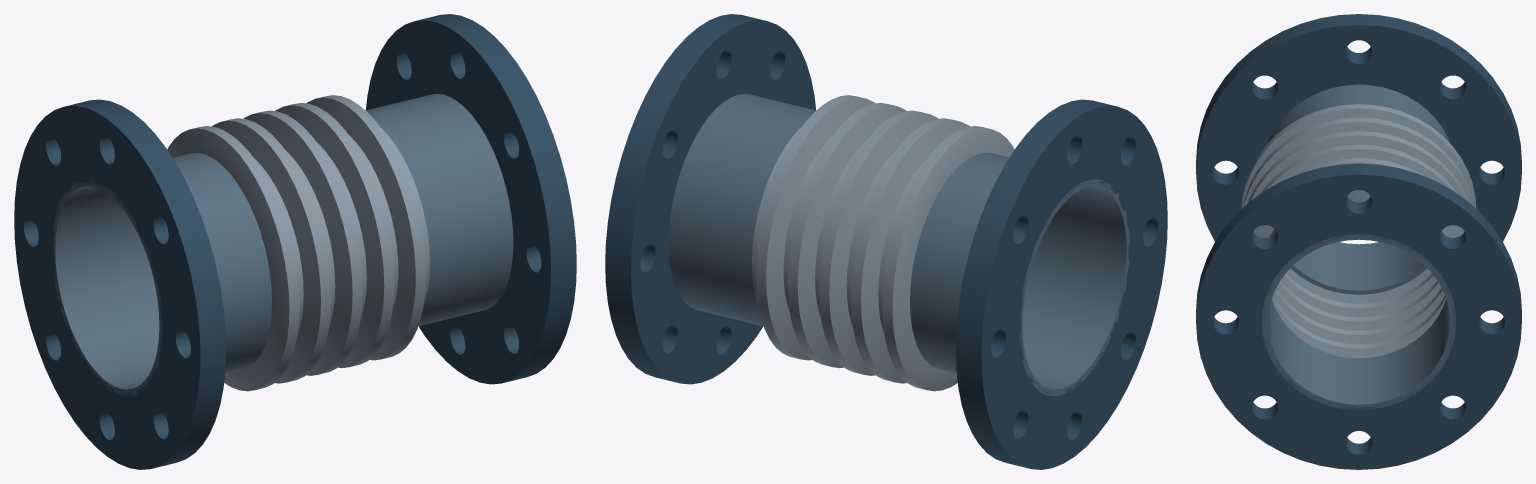
The model's file is flan-dn125-L260-D133-f.glb.
3 renders of one model, left to right at view 1: azimuth 30°, elevation 25°; view 2: azimuth 150°, elevation 25°; view 3: azimuth 270°, elevation 25°, orthographic. The views are drawn at different scales.
Parts seen in each view (by area): view 1: prokladka_silfon_1, homut_flanec_1, homut_flanec_2, patrubok_1, patrubok_2; view 2: prokladka_silfon_1, homut_flanec_1, homut_flanec_2, patrubok_1, patrubok_2; view 3: homut_flanec_2, homut_flanec_1, prokladka_silfon_1, patrubok_2, patrubok_1.
Boxes of the visible parts, x1,y1,x2,y2 form: prokladka_silfon_1: (167, 95, 429, 391); homut_flanec_1: (14, 99, 226, 469); homut_flanec_2: (366, 14, 576, 384); patrubok_1: (53, 152, 271, 396); patrubok_2: (366, 93, 513, 326); prokladka_silfon_1: (752, 95, 1014, 391); homut_flanec_1: (955, 99, 1167, 469); homut_flanec_2: (605, 14, 815, 384); patrubok_1: (910, 152, 1129, 396); patrubok_2: (668, 93, 815, 326); homut_flanec_2: (1196, 163, 1521, 469); homut_flanec_1: (1196, 14, 1521, 241); prokladka_silfon_1: (1241, 104, 1476, 358); patrubok_2: (1261, 190, 1456, 410); patrubok_1: (1267, 84, 1450, 294).
Bounding box in the file's own units: 260 × 223 × 223.
